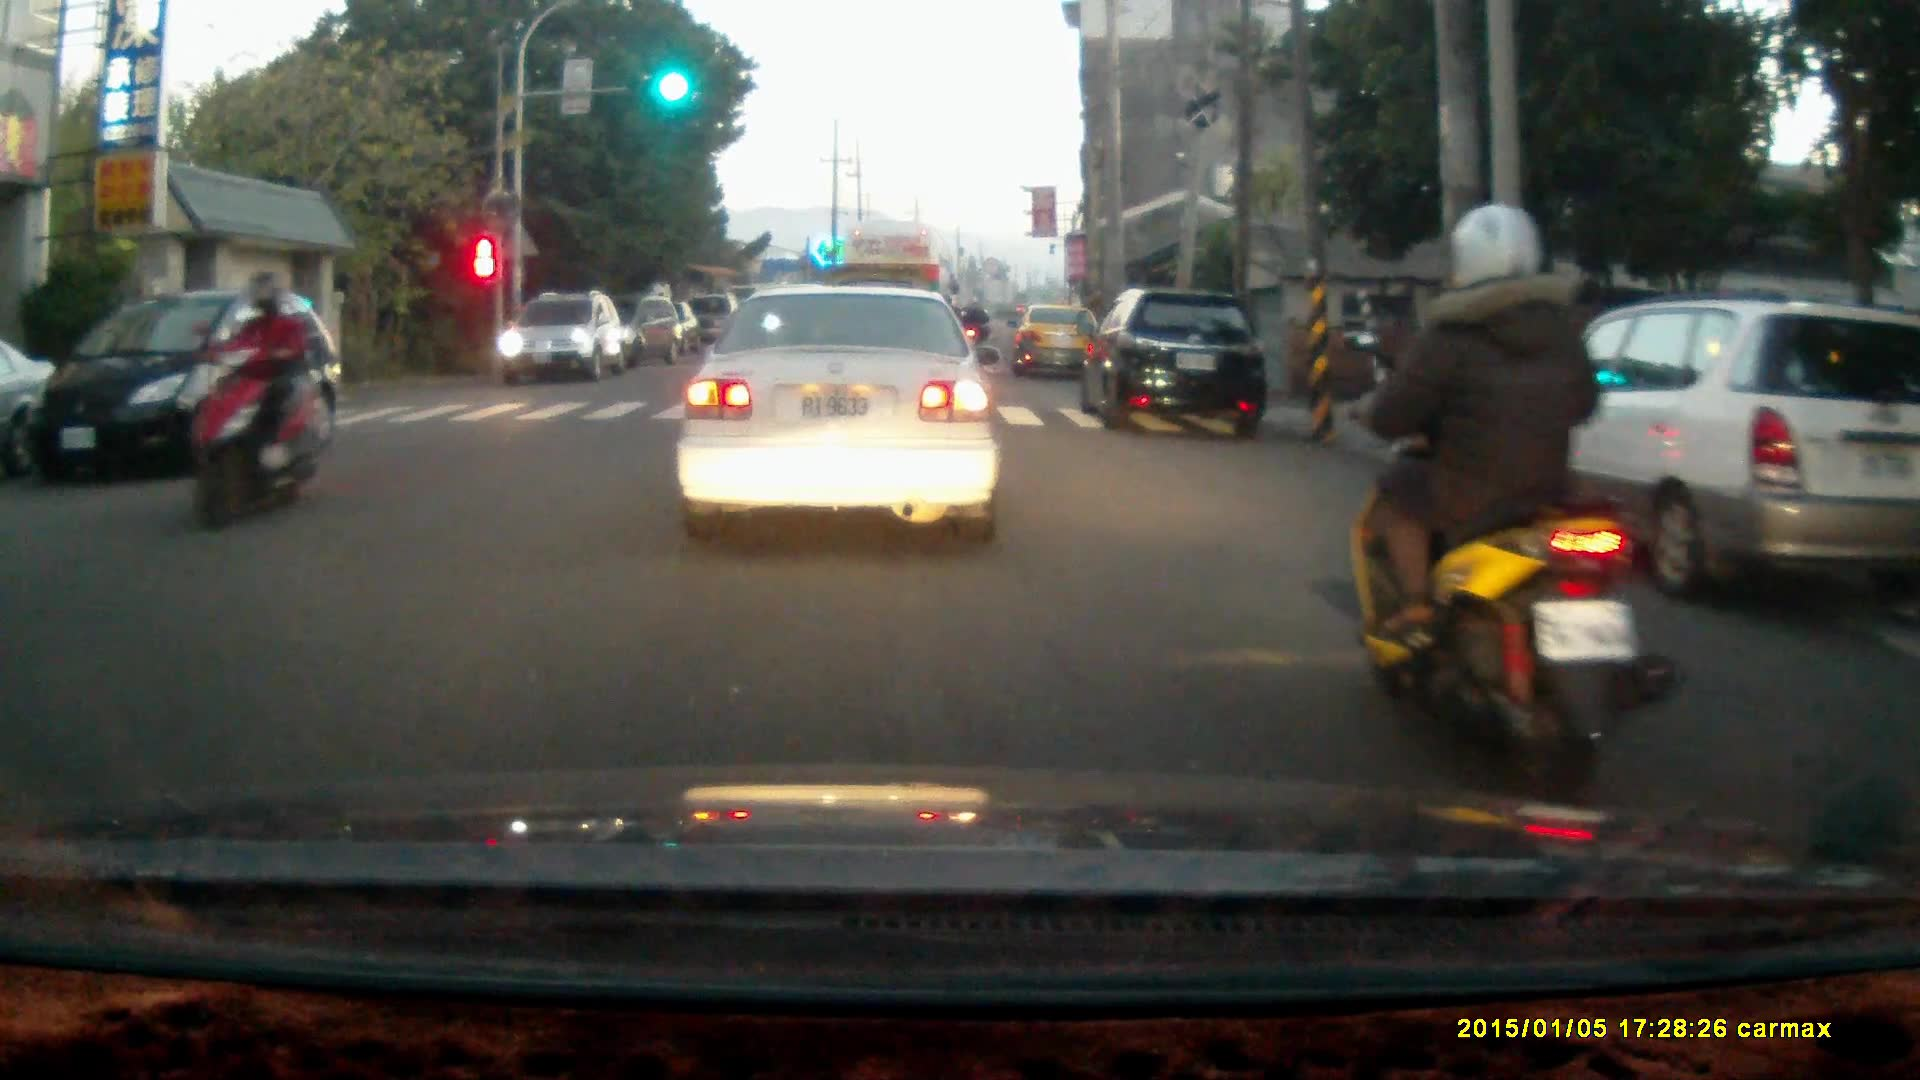rider: (1340, 203, 1684, 813), (187, 268, 317, 531)
vehicle: (1489, 296, 1920, 595), (680, 276, 1002, 542), (23, 284, 348, 485), (1085, 281, 1263, 429), (833, 216, 951, 363), (498, 293, 629, 382), (1012, 302, 1110, 379)
